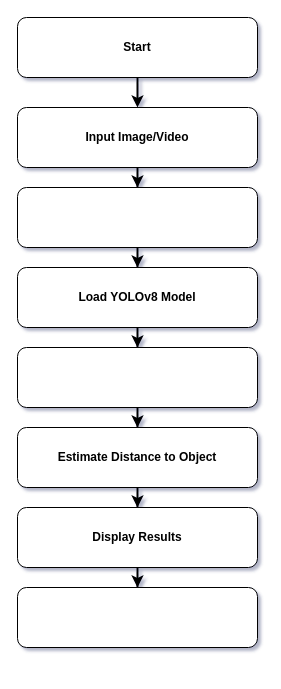
The diagram is 281 pixels wide and 689 high, and some of its shapes have lost their labels. The centre of each missing label's shape, as x and y in pixels:
"End" belongs at pixel 137 617.
"Preprocess Image" belongs at pixel 137 217.
"Run YOLOv8 for Object Detection" belongs at pixel 137 377.
